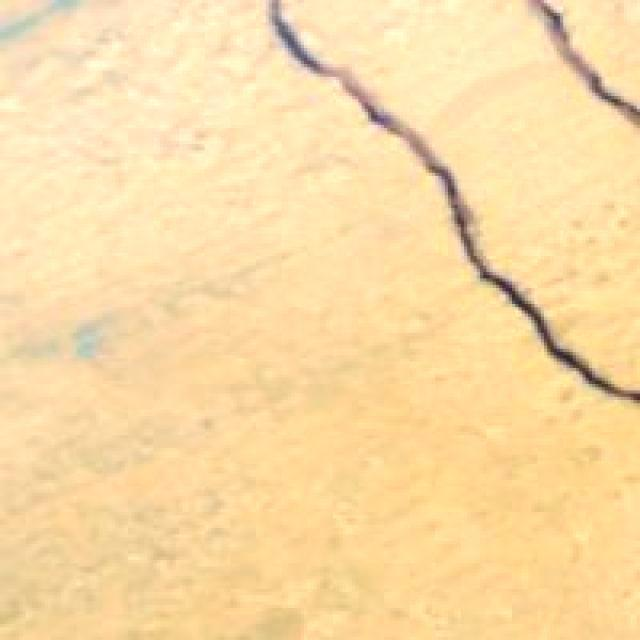crack: (242, 0, 640, 408)
